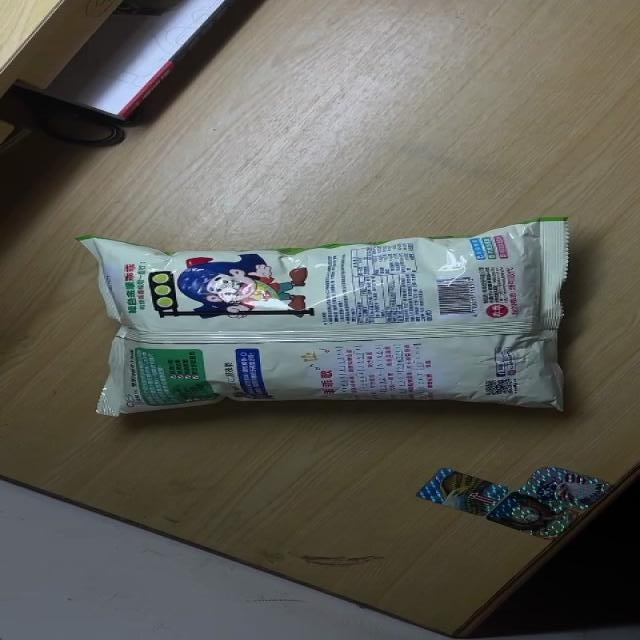Good-Luck: (74, 217, 570, 418)
